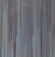No waiting: (7, 4, 51, 56)
